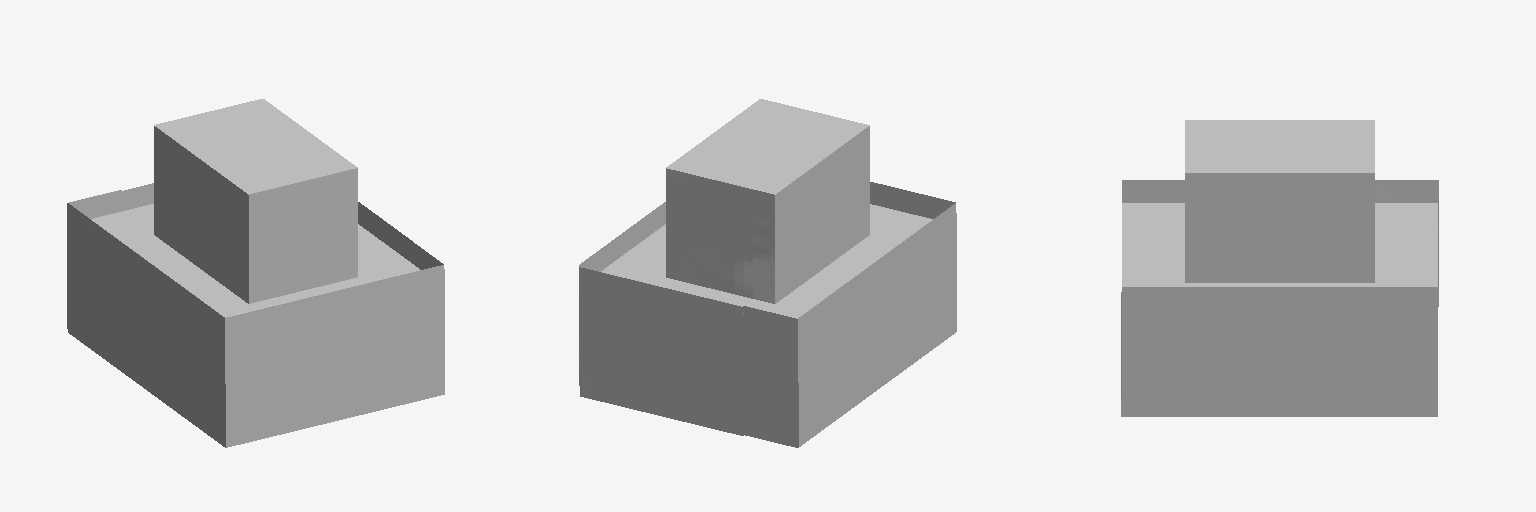
3 views of the same model, side by side, from view 1: azimuth 30°, elevation 25°; view 2: azimuth 150°, elevation 25°; view 3: azimuth 270°, elevation 25° (orthographic).
Visible parts, largest first — view 1: Cube.002_Cube.000; view 2: Cube.002_Cube.000; view 3: Cube.002_Cube.000.
Boxes of the visible parts, x1=… form: Cube.002_Cube.000: x1=67, y1=99, x2=444, y2=447; Cube.002_Cube.000: x1=579, y1=99, x2=956, y2=447; Cube.002_Cube.000: x1=1121, y1=120, x2=1438, y2=416.
Bounding box in the file's own units: 1 × 0.9538 × 1.25.
Materials: 1 (1 with a texture image).